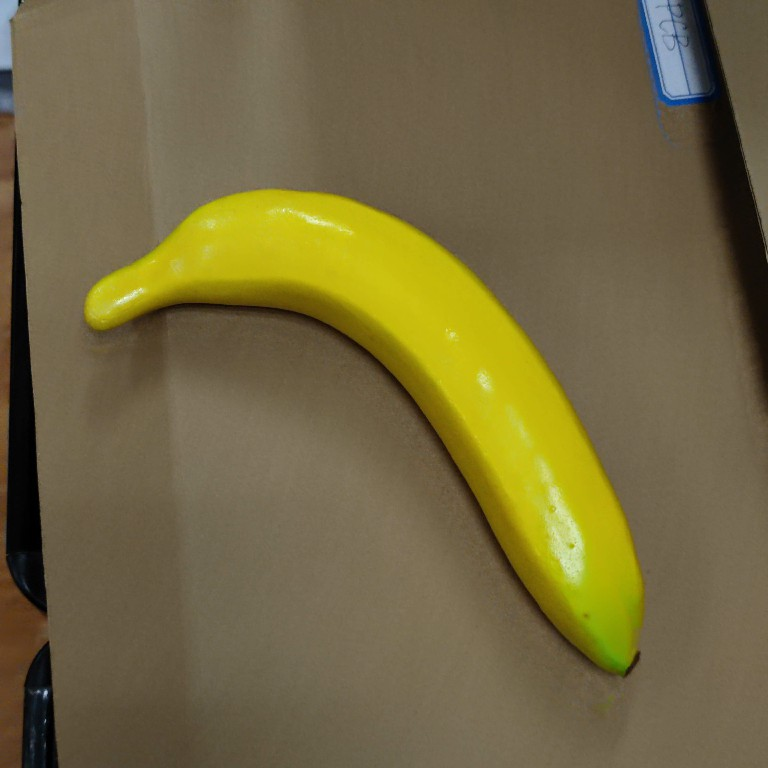fruit_banana: (81, 184, 649, 684)
